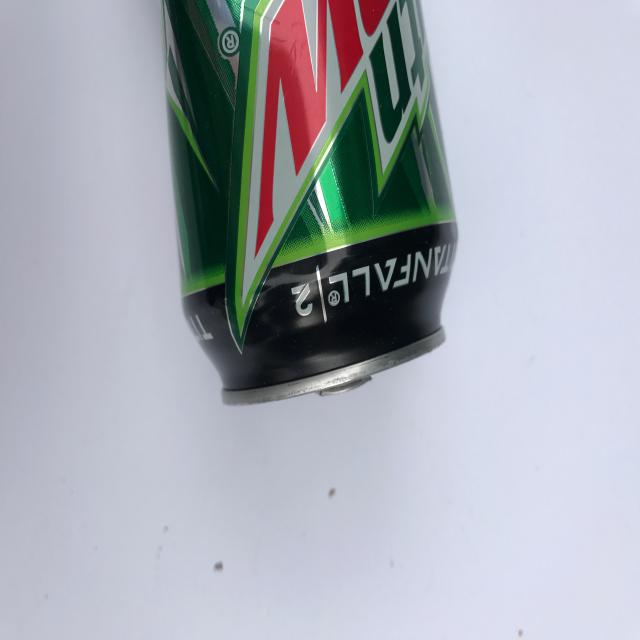metal: (160, 0, 458, 405)
